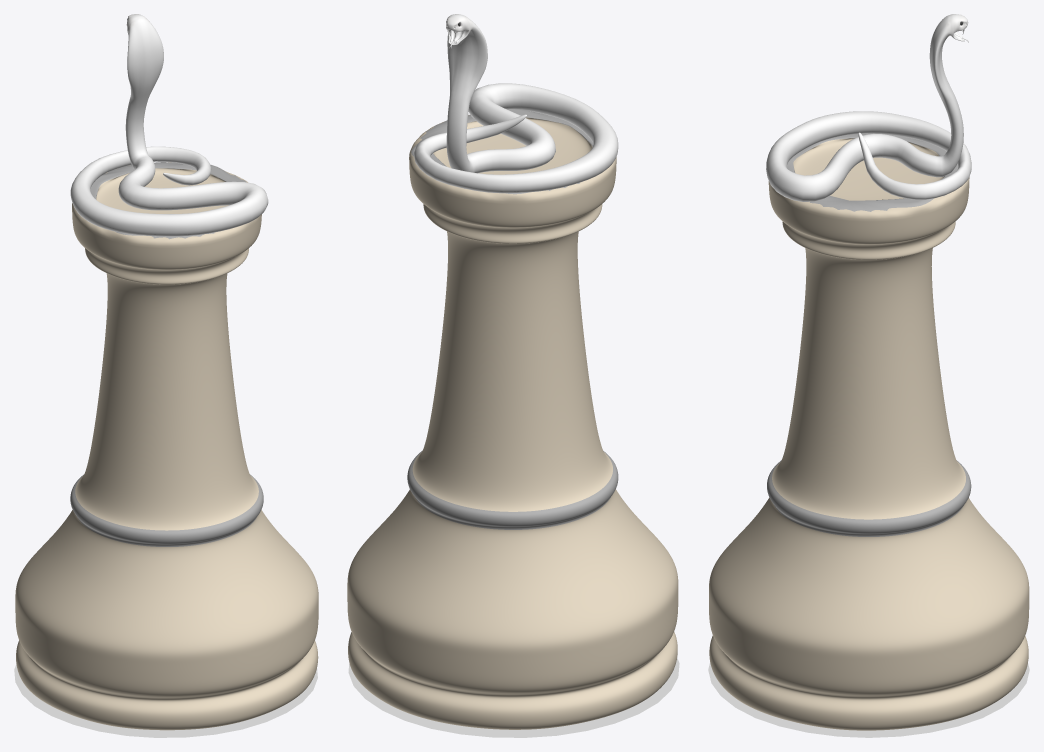
File: torre1.fbx
The picture shows the model from 3 angles, left to right: view 1: azimuth 30°, elevation 25°; view 2: azimuth 150°, elevation 25°; view 3: azimuth 270°, elevation 25°; orthographic projection. The views are drawn at different scales.
Parts seen in each view (by area): view 1: Trn-m, Cube, Bonde-m.026; view 2: Trn-m, Cube, Bonde-m.026; view 3: Trn-m, Cube, Bonde-m.026.
Part boxes in pixels (bbox=[...]): Trn-m: bbox=[15, 162, 318, 730]; Cube: bbox=[70, 14, 268, 236]; Bonde-m.026: bbox=[14, 664, 317, 737]; Trn-m: bbox=[347, 109, 678, 729]; Cube: bbox=[414, 14, 618, 193]; Bonde-m.026: bbox=[348, 658, 679, 737]; Trn-m: bbox=[709, 133, 1029, 730]; Cube: bbox=[766, 14, 971, 201]; Bonde-m.026: bbox=[708, 662, 1029, 737].
Size of the model in its own units: 51.53 by 116 by 51.43.
